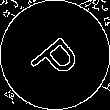P_NE: (24, 25, 86, 85)
